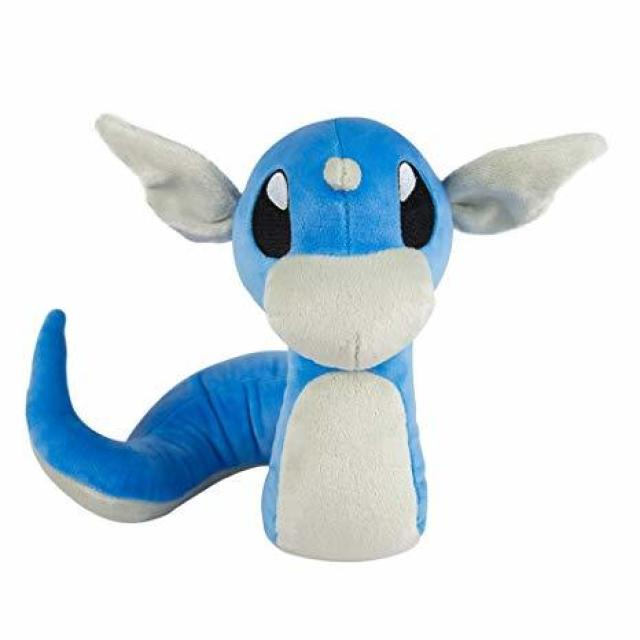Dratini: (175, 108, 505, 564)
